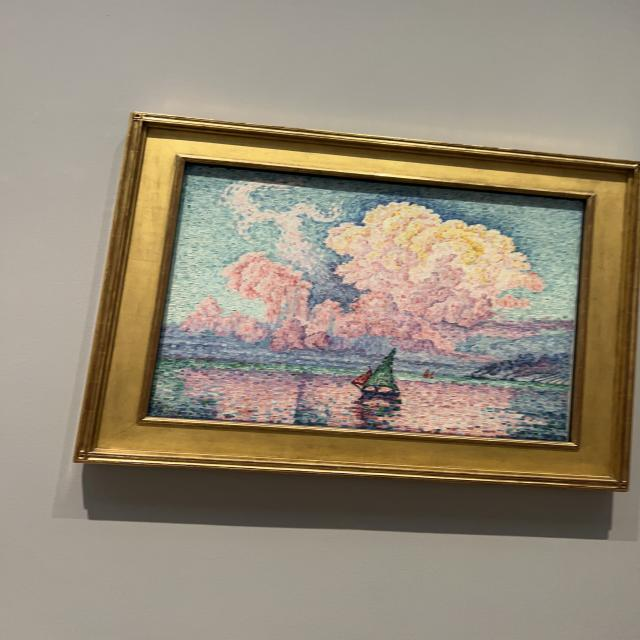sunrise: (152, 175, 578, 432)
